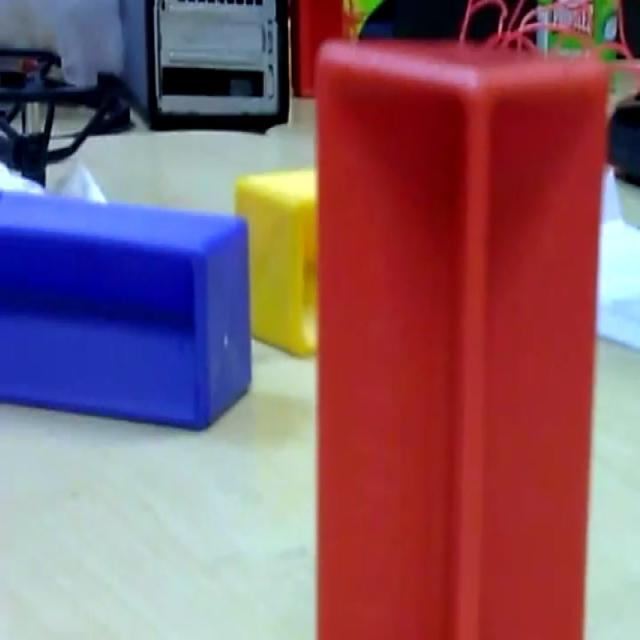blue_block: (0, 185, 252, 431)
red_block: (313, 36, 609, 636)
yellow_block: (233, 164, 318, 357)
